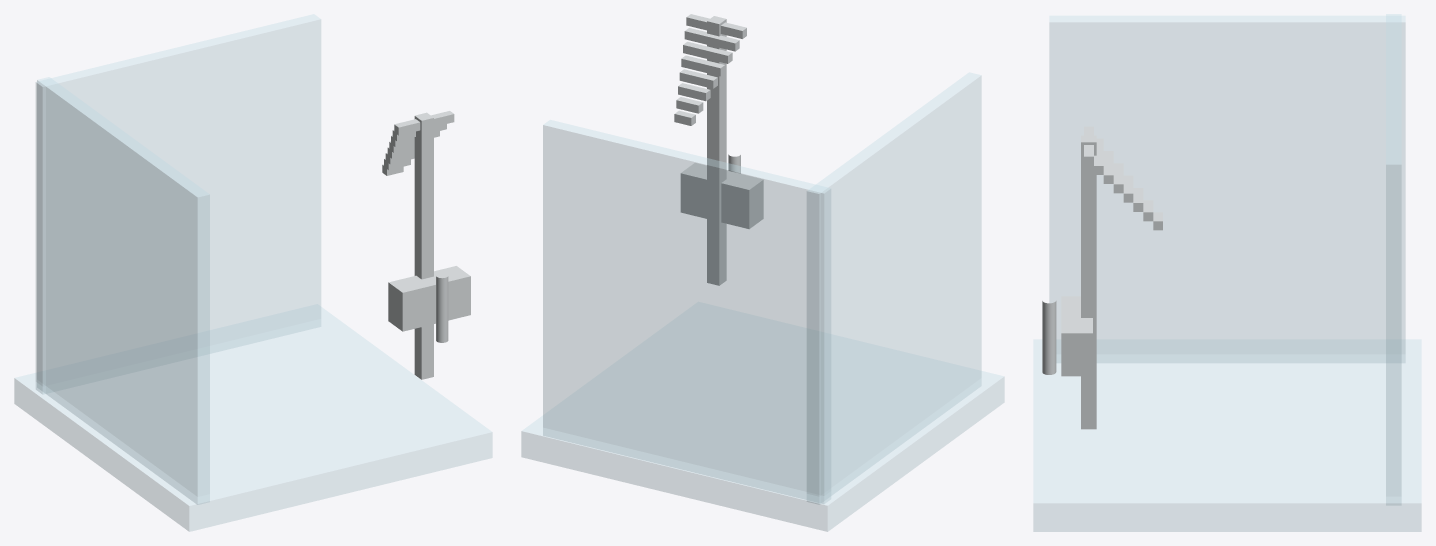
The model's file is shower.gltf.
3 renders of one model, left to right at view 1: azimuth 30°, elevation 25°; view 2: azimuth 150°, elevation 25°; view 3: azimuth 270°, elevation 25°, orthographic. The views are drawn at different scales.
Parts seen in each view (by area): view 1: glassR, tray, glassL, rail, mixer, shower, handle; view 2: glassR, tray, glassL, rail, shower, mixer; view 3: glassL, tray, glassR, rail, mixer, shower, handle.
Part boxes in pixels (box(x1,y1,x2,y2)): glassR: box(36, 14, 320, 394); tray: box(14, 304, 492, 531); glassL: box(37, 77, 209, 504); rail: box(414, 112, 433, 379); mixer: box(388, 266, 470, 331); shower: box(382, 111, 454, 175); handle: box(436, 276, 448, 342); glassR: box(543, 120, 830, 503); tray: box(521, 302, 1004, 531); glassL: box(807, 72, 981, 504); rail: box(707, 16, 726, 285); shower: box(674, 14, 746, 125); mixer: box(680, 163, 763, 228); glassL: box(1049, 16, 1405, 362); tray: box(1033, 339, 1421, 531); glassR: box(1386, 14, 1401, 505); rail: box(1081, 135, 1096, 429); mixer: box(1061, 296, 1092, 376); shower: box(1084, 126, 1162, 230); handle: box(1042, 301, 1056, 374).
Bounding box in the file's own units: 0.98 × 1.03 × 0.98.
